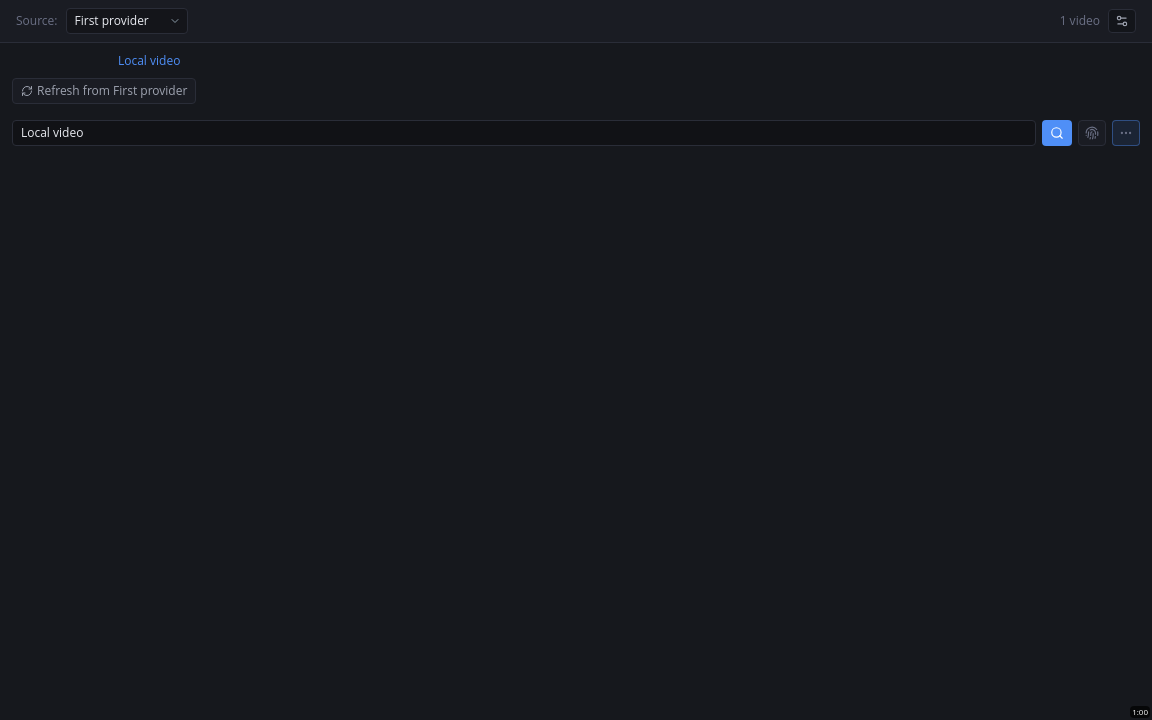
VideoTagger › shows skipped related tag claims as a partial-success warning
What coordinates should you click on to do the following:
click the button "Refresh from First provider"
I would click on:
 (104, 90)
Its box is x1=12 y1=78 x2=196 y2=104.
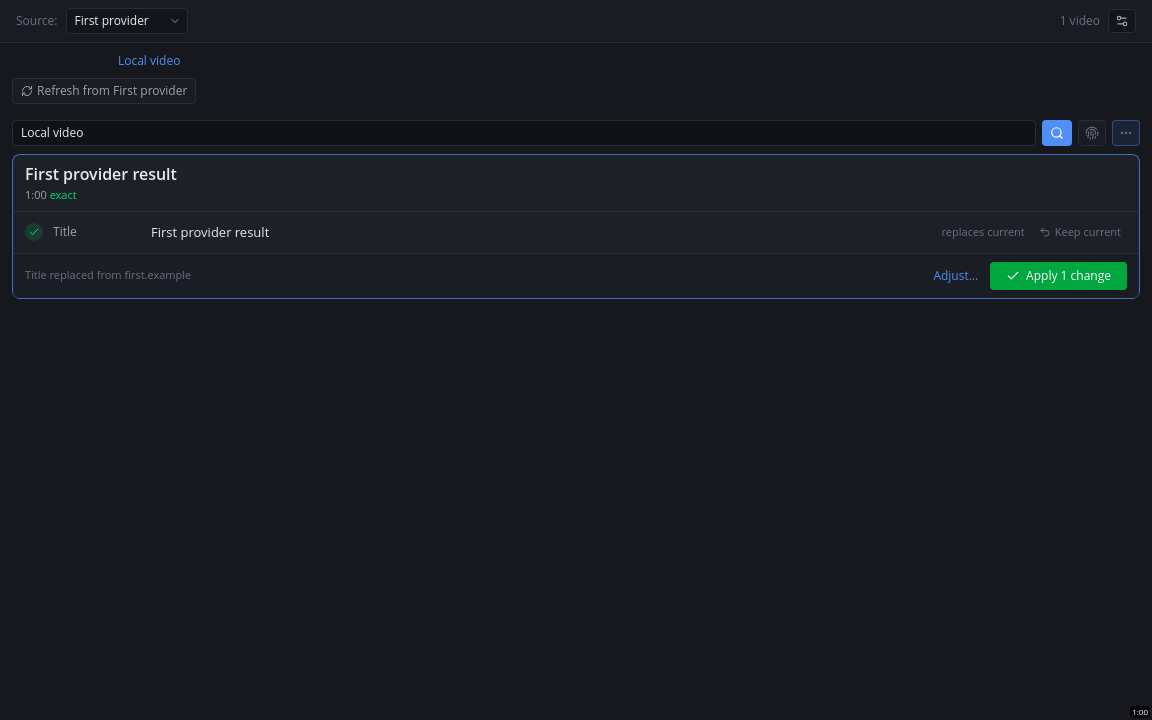
What coordinates should you click on to do the following:
click the button "Apply 1 change"
I would click on:
 (1059, 276)
Its box is x1=990 y1=262 x2=1127 y2=290.
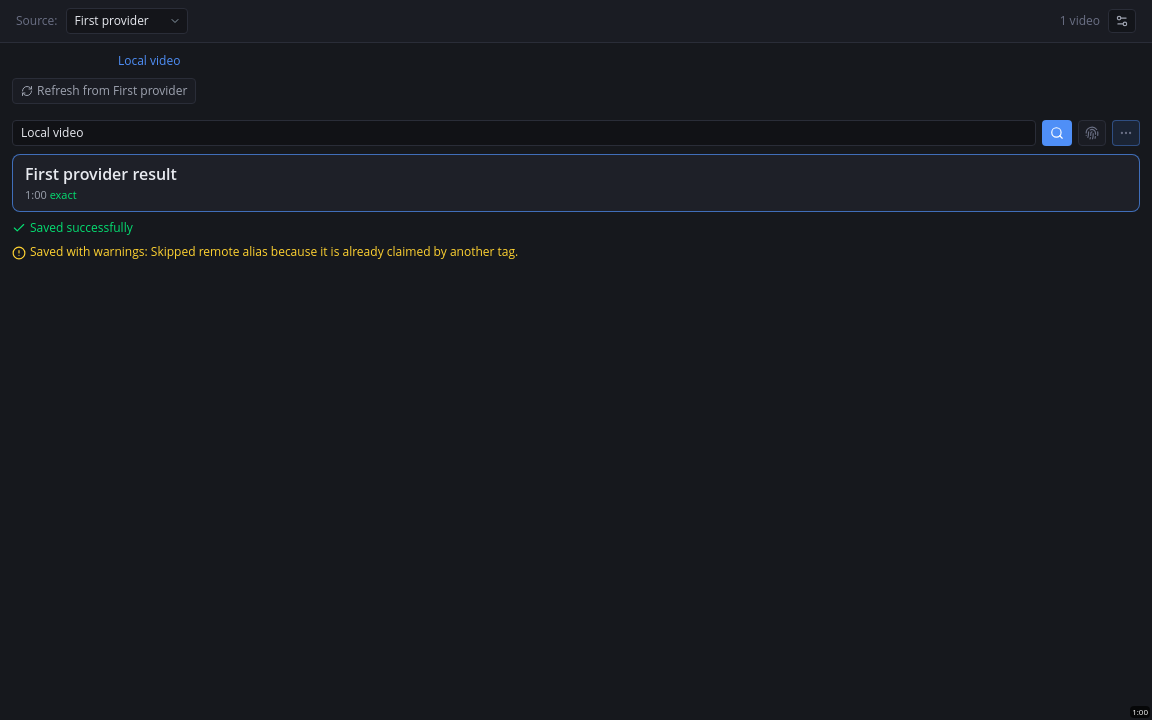
Expected: the text "Saved with warnings: Skipped remote alias" is shown, x1=30 y1=244 x2=518 y2=260
Expected: the text "Saved successfully" is shown, x1=12 y1=219 x2=133 y2=236
